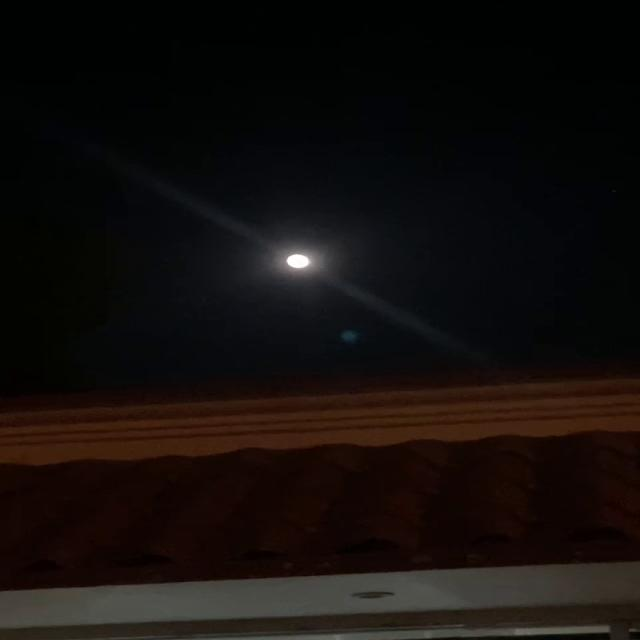moon: (284, 256, 316, 272)
